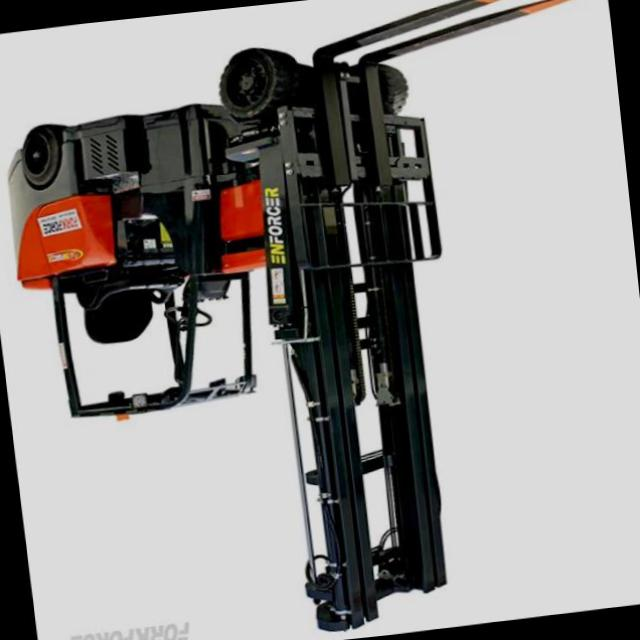forklift: (0, 25, 451, 458)
